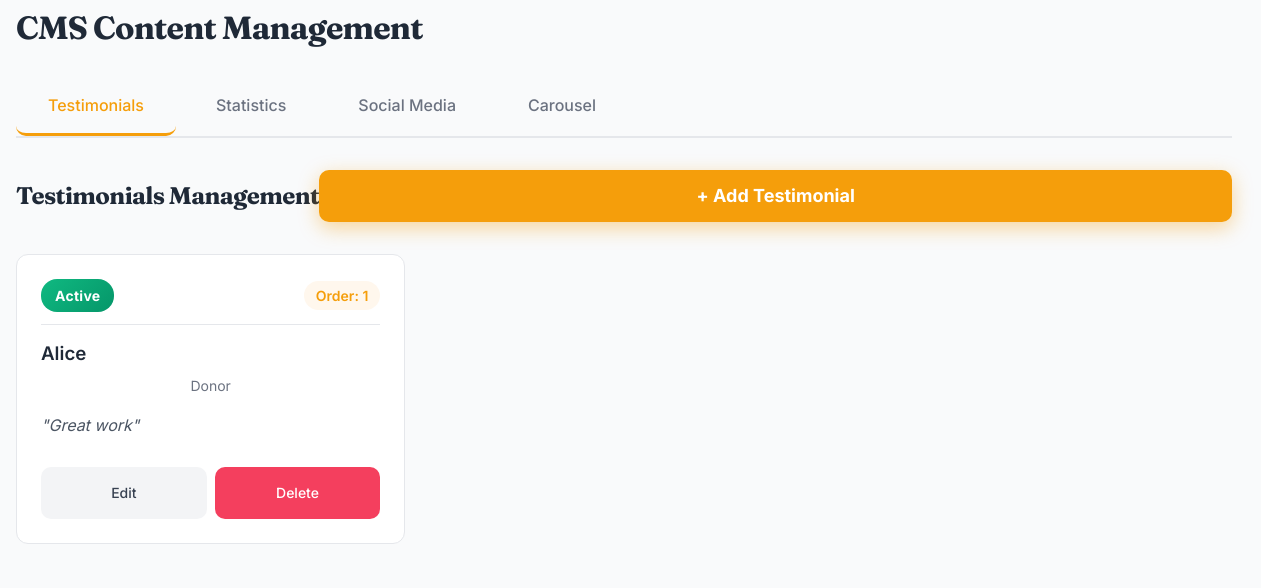
Test: AdminCMS › switching to Social Media tab loads social-media content
The image size is (1261, 588).
Check: the heading "Alice" is shown, box [41, 342, 86, 365]
Click the button "Social Media" at (407, 107), box [326, 77, 488, 136]
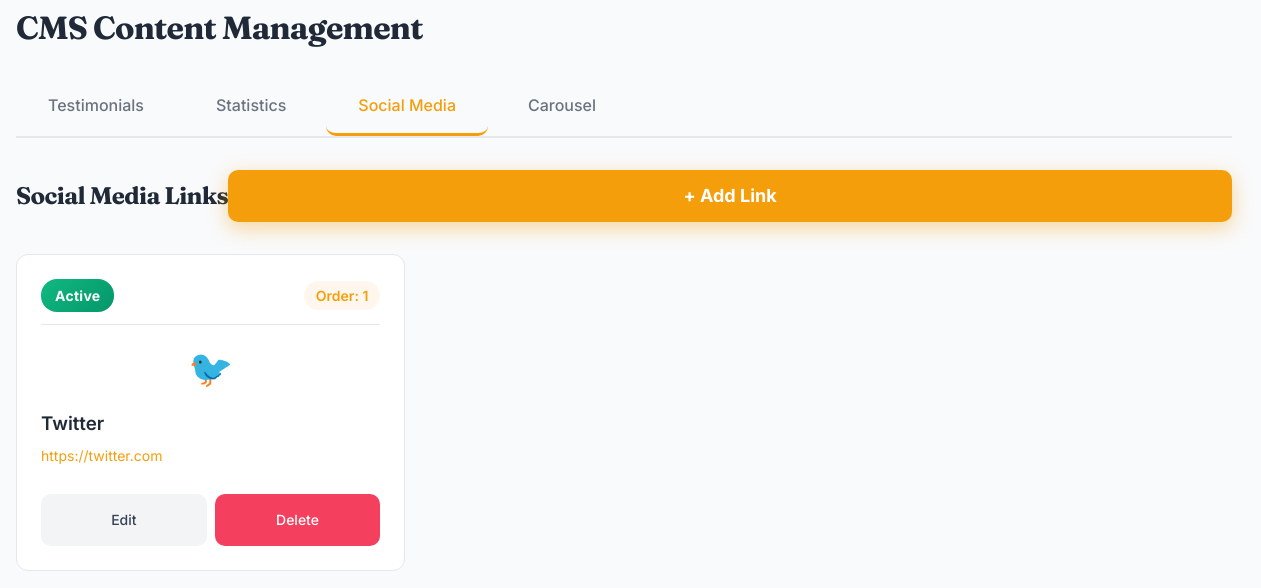
Check: the heading "Twitter" is shown, box [41, 412, 104, 435]
